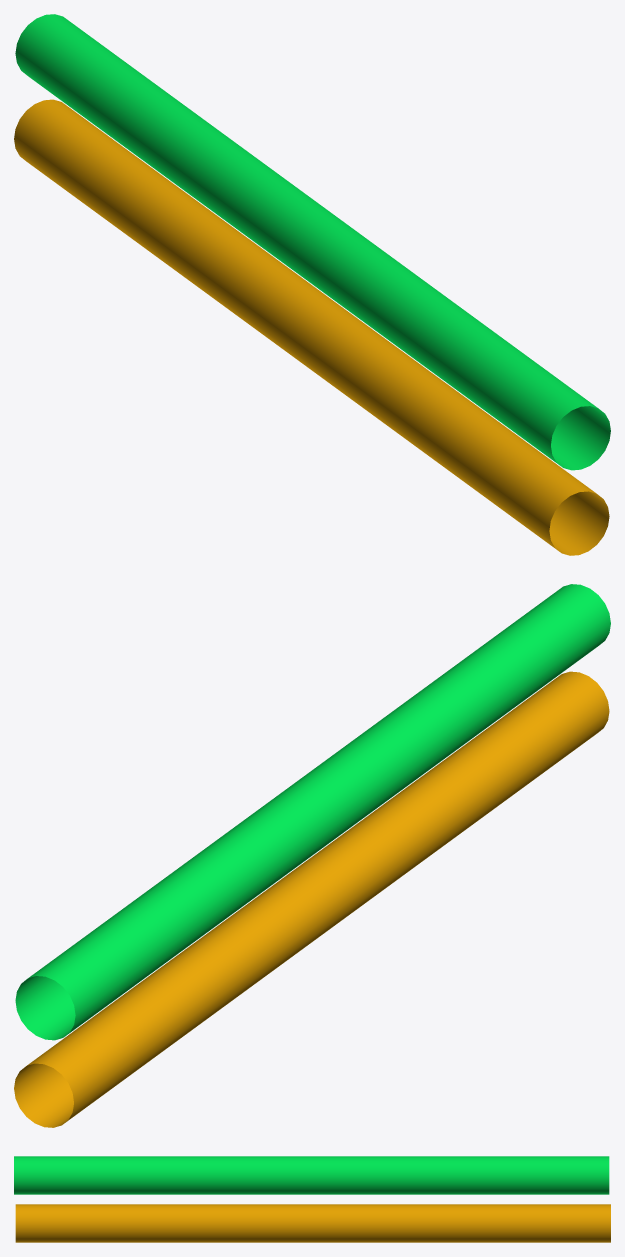
The model's file is wire_straight.fbx.
3 views of the same model, one above another, from view 1: azimuth 30°, elevation 25°; view 2: azimuth 150°, elevation 25°; view 3: azimuth 270°, elevation 25° (orthographic). The views are drawn at different scales.
Parts seen in each view (by area): view 1: wire_top, wire_bottom; view 2: wire_top, wire_bottom; view 3: wire_top, wire_bottom.
Boxes of the visible parts, x1,y1,x2,y2 form: wire_top: (15,14,610,470); wire_bottom: (14,99,609,555); wire_top: (15,584,610,1040); wire_bottom: (14,671,609,1127); wire_top: (14,1156,609,1194); wire_bottom: (15,1204,610,1242).
Size of the model in its own units: 1.75 by 4.16 by 27.09.
